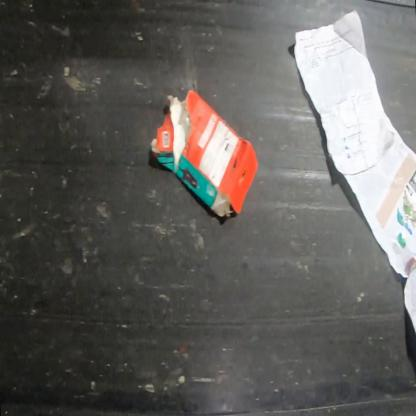cardboard: (150, 89, 258, 218)
